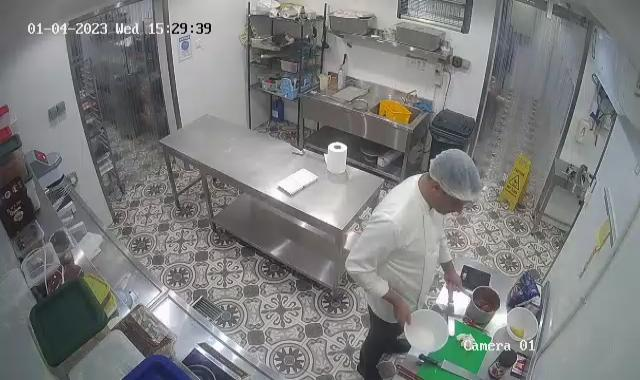hairnet: (430, 144, 484, 206)
